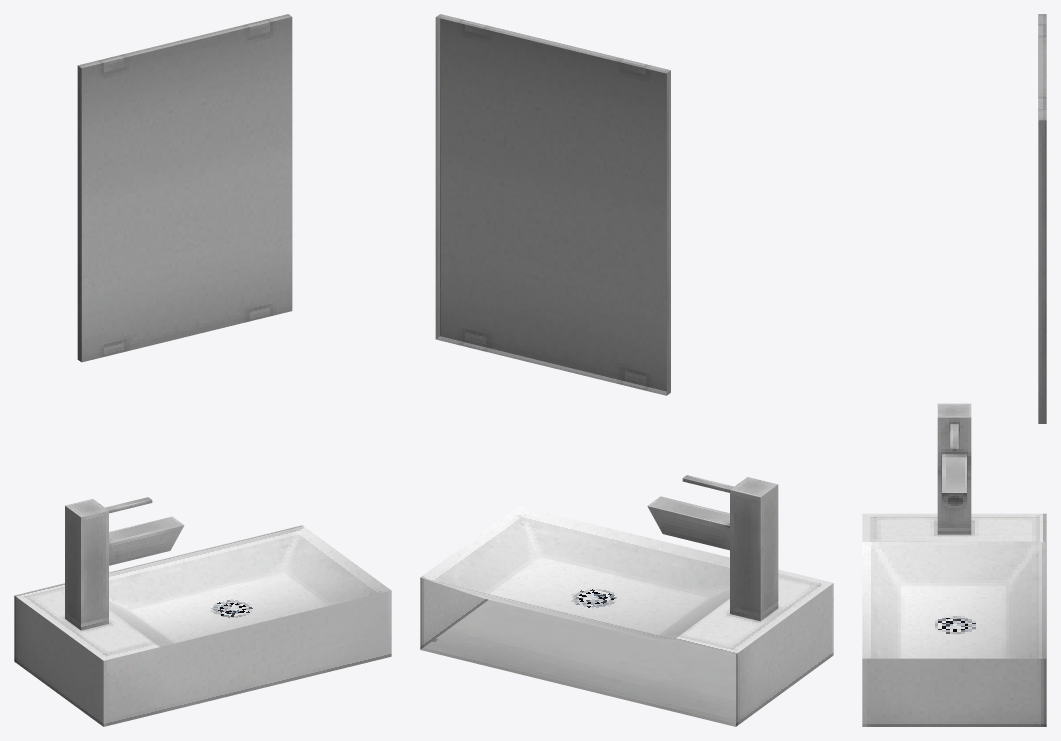
The model's file is ToiletSink.glb.
3 views of the same model, side by side, from view 1: azimuth 30°, elevation 25°; view 2: azimuth 150°, elevation 25°; view 3: azimuth 270°, elevation 25° (orthographic). The views are drawn at different scales.
Visible parts, largest first — view 1: sink mirror, toilet sink; view 2: sink mirror, toilet sink; view 3: toilet sink, sink mirror.
Part boxes in pixels (box(x1,y1,x2,y2)): sink mirror: box(77, 14, 292, 362); toilet sink: box(14, 497, 391, 726); sink mirror: box(435, 14, 670, 395); toilet sink: box(420, 475, 833, 726); toilet sink: box(862, 403, 1046, 726); sink mirror: box(1038, 14, 1046, 423).
Bounding box in the file's own units: 0.41 × 0.79 × 0.22.
Materials: 2 (2 with a texture image).
